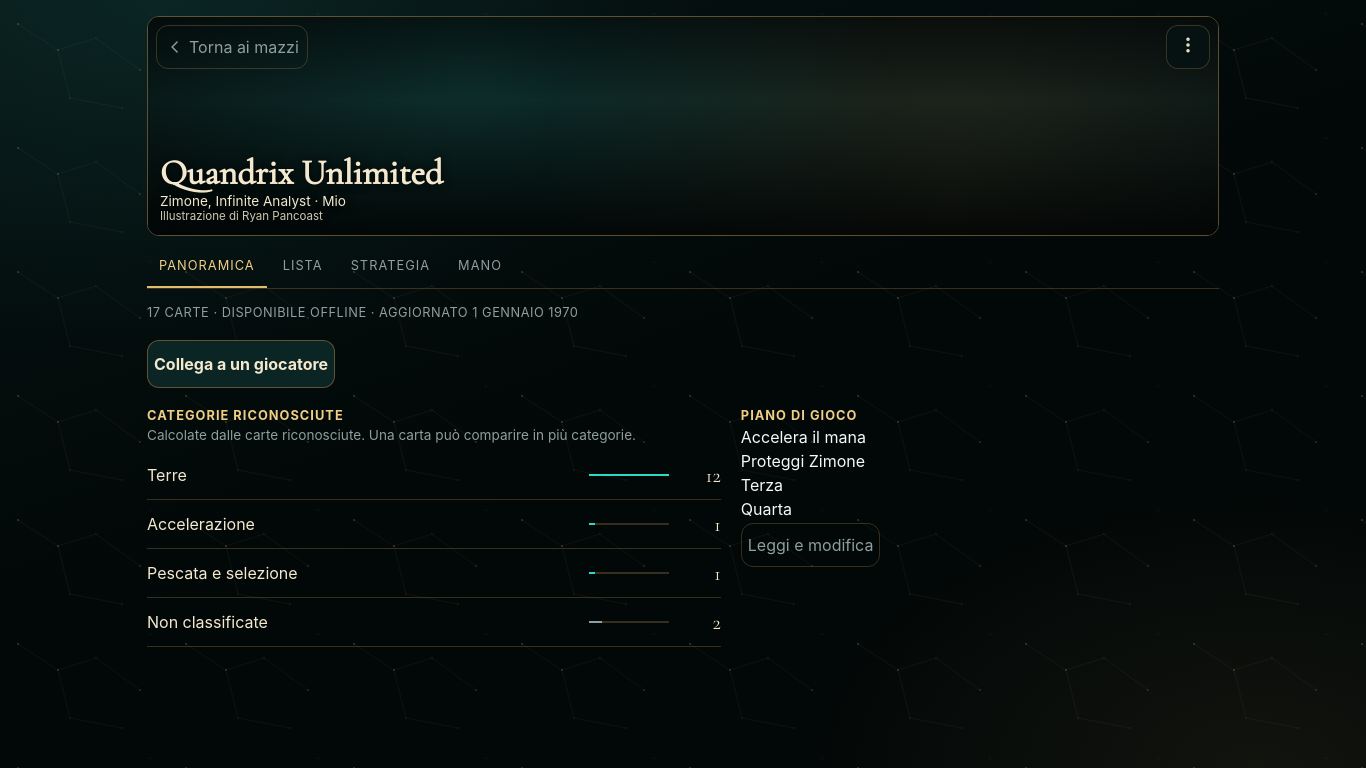
it: deck detail (R3 §6–8) › renders the actions menu outside the clipped hero, anchored, with focus and dismissal rules (review fix 1)
The image size is (1366, 768).
Click the button named "Azioni del mazzo" at (1188, 47), box [1166,25,1210,69]
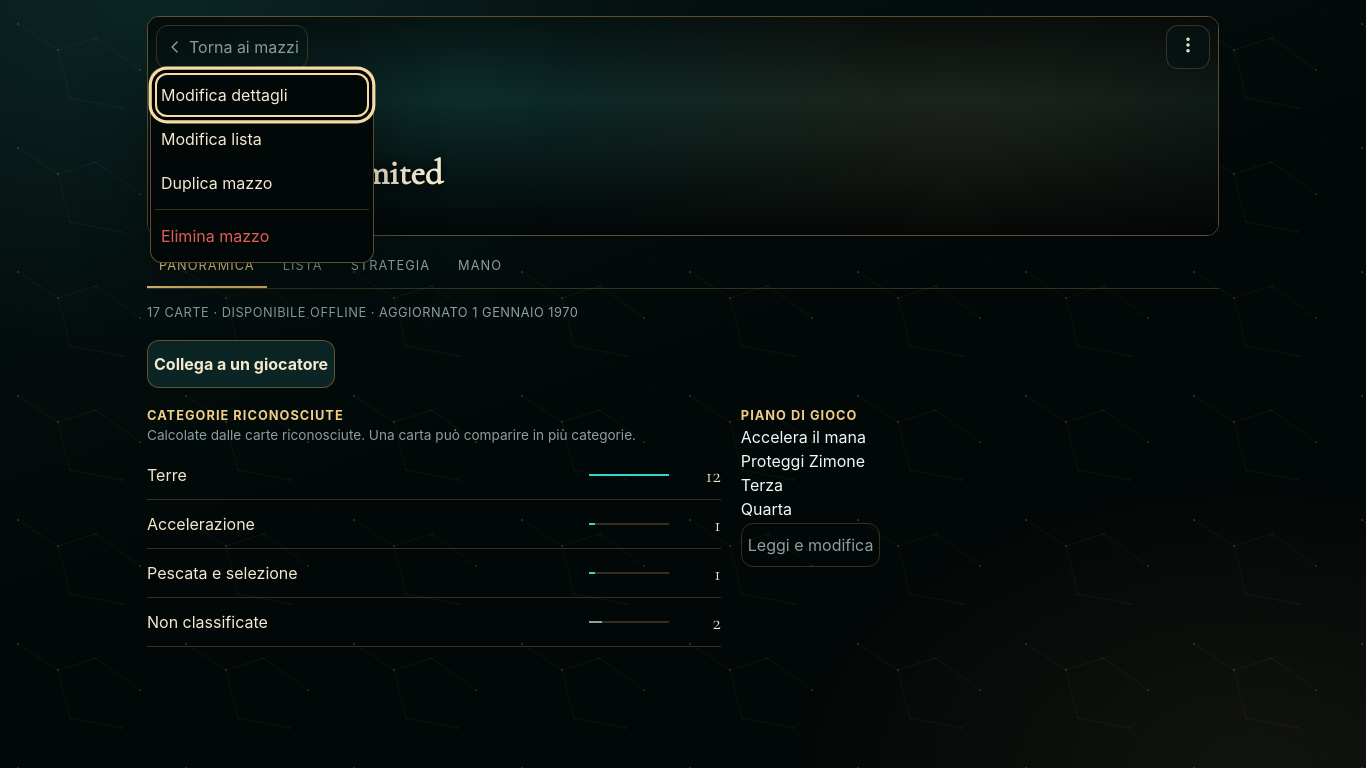
Press ArrowDown in the menu item "Modifica dettagli", box [155,73,369,117]
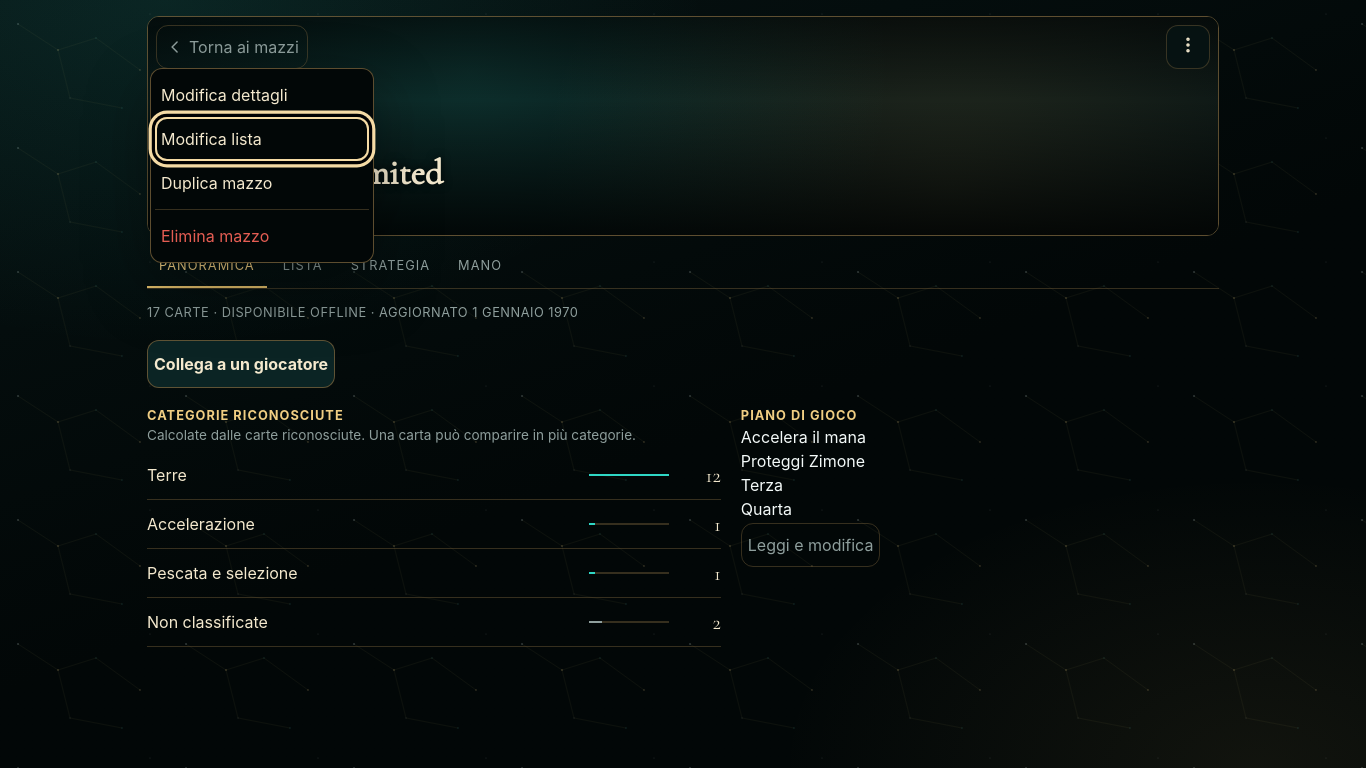
Press Escape in the menu named "Azioni del mazzo", box [150,68,374,263]
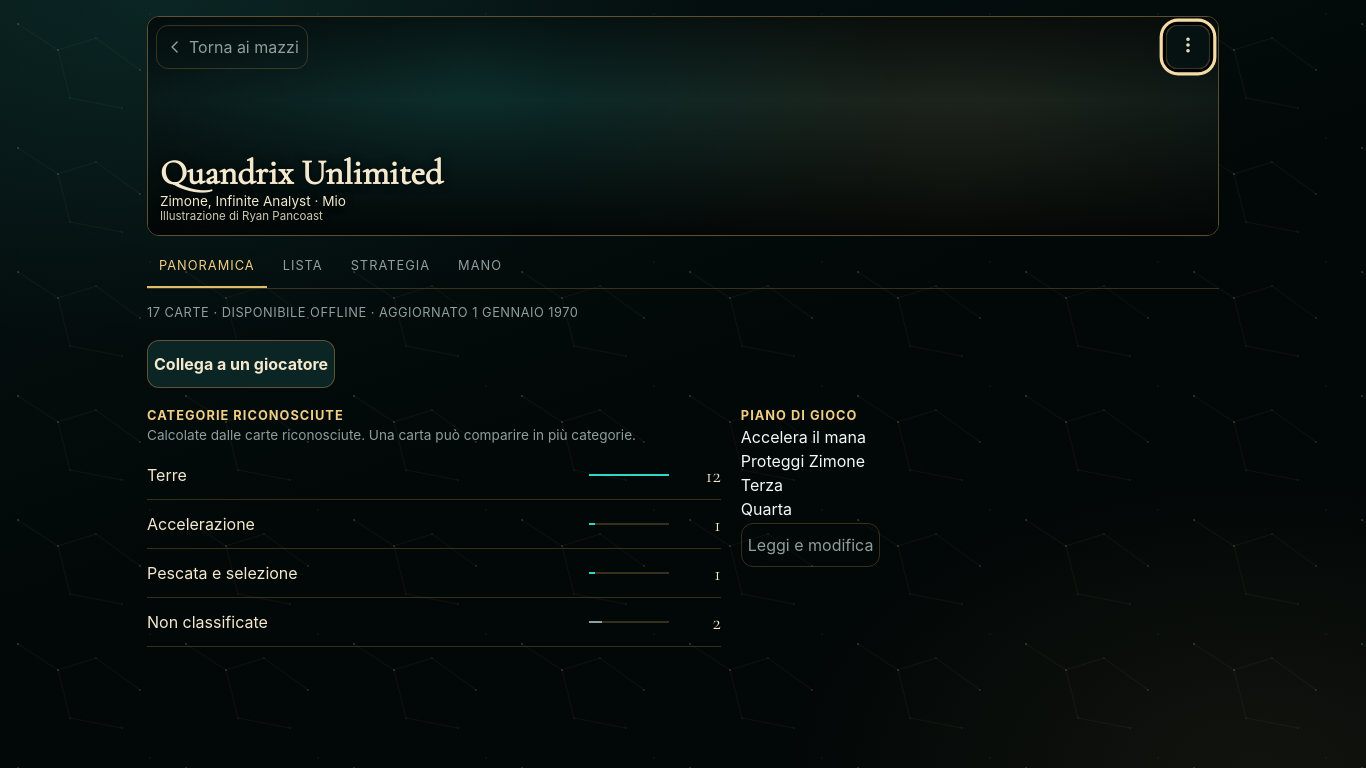
expect the menu is gone: met
Click the button named "Azioni del mazzo" at (1188, 47), box [1166,25,1210,69]
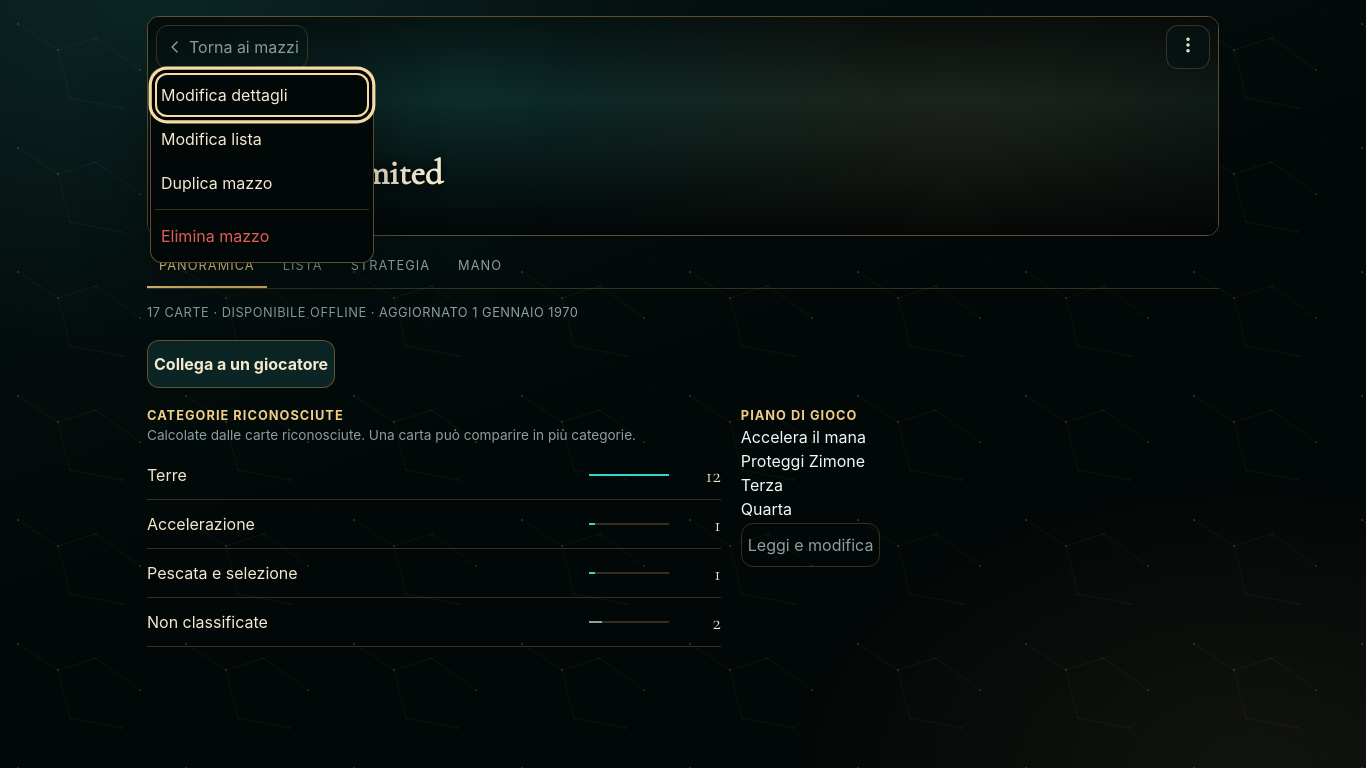
Press the mouse on the element that starts with "Torna ai mazzi" at (683, 384), box [0,0,1365,767]
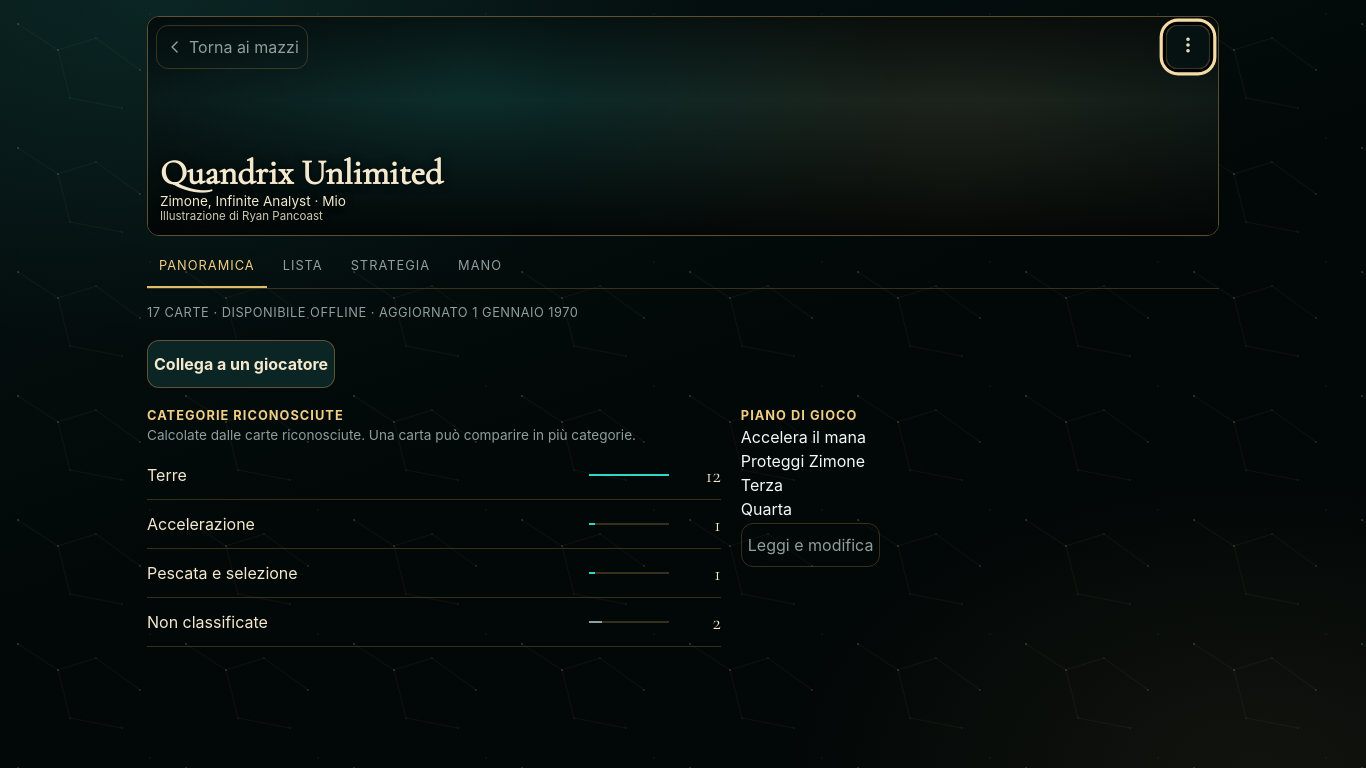
expect the menu is gone: met
